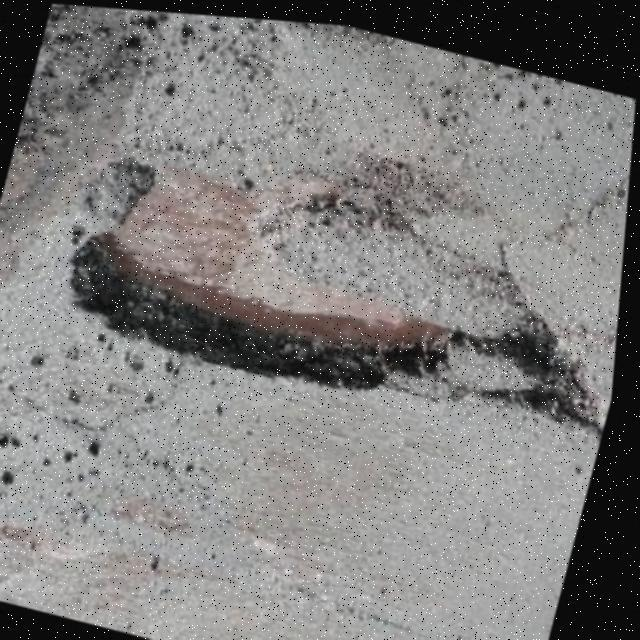pothole: (46, 111, 633, 458)
